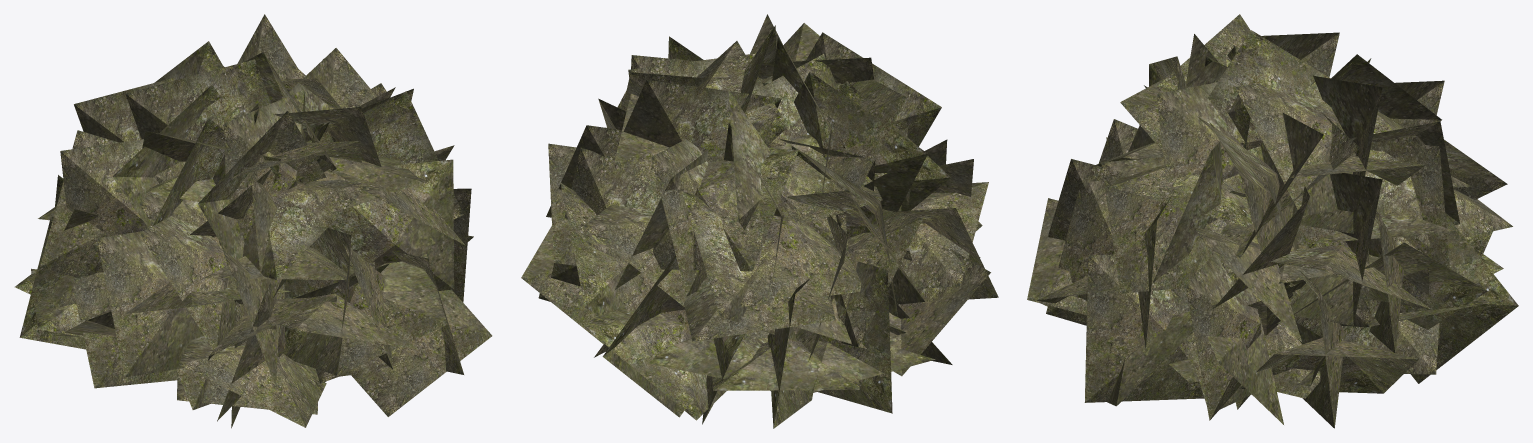
3 views of the same model, side by side, from view 1: azimuth 30°, elevation 25°; view 2: azimuth 150°, elevation 25°; view 3: azimuth 270°, elevation 25° (orthographic). The views are drawn at different scales.
Visible parts, largest first — view 1: lgt_plt_0004_ms_001_001; view 2: lgt_plt_0004_ms_001_001; view 3: lgt_plt_0004_ms_001_001.
Boxes of the visible parts, x1=… form: lgt_plt_0004_ms_001_001: x1=14, y1=14, x2=492, y2=428; lgt_plt_0004_ms_001_001: x1=521, y1=14, x2=998, y2=428; lgt_plt_0004_ms_001_001: x1=1027, y1=14, x2=1518, y2=428.
Size of the model in its own units: 250 by 205 by 260.
